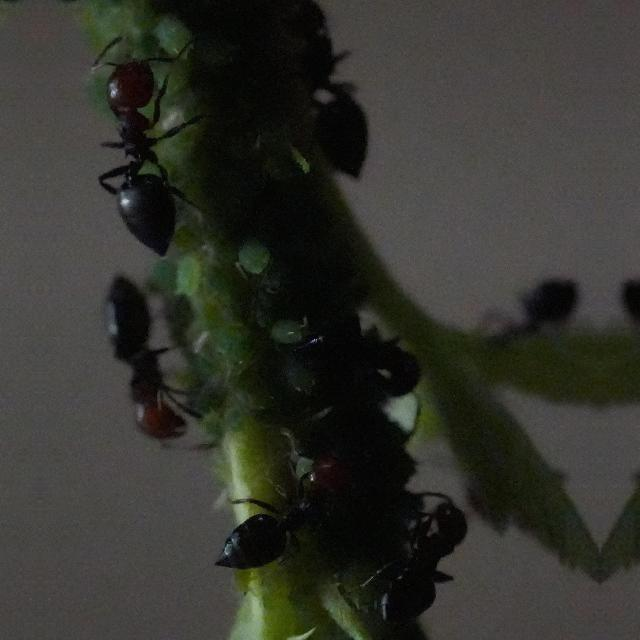Crematogaster: (80, 246, 208, 462), (69, 46, 185, 260), (215, 454, 369, 578)
